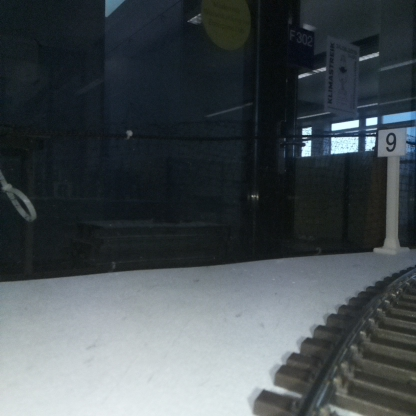white-info-9: (378, 127, 405, 251)
